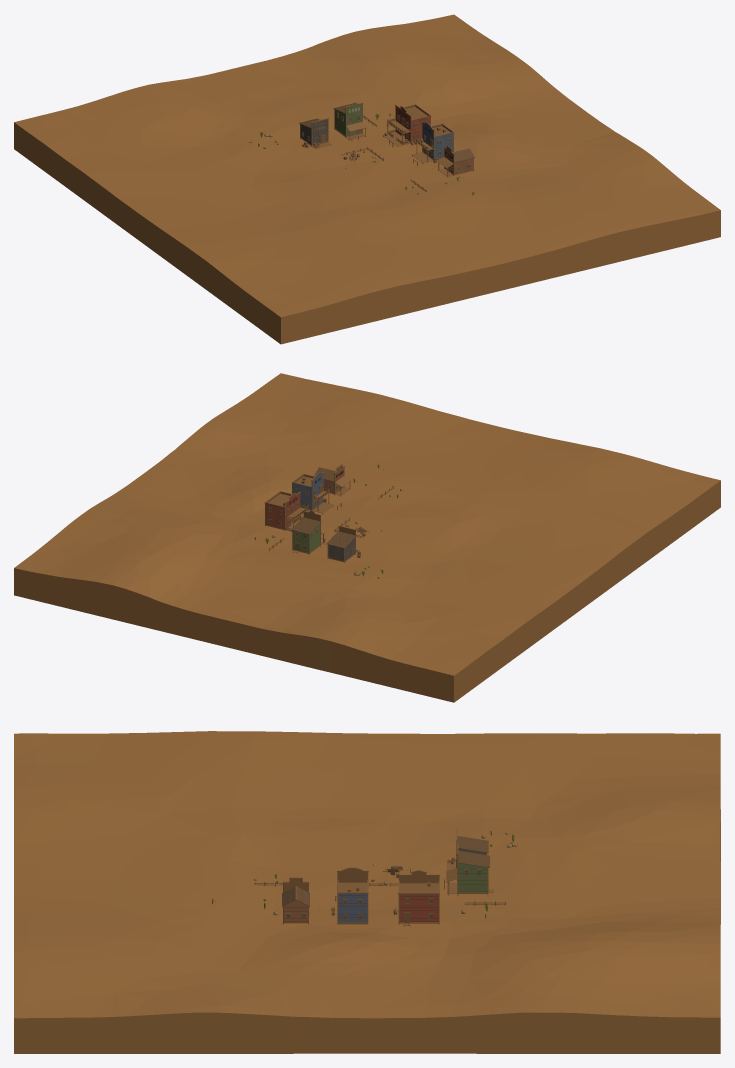
File: wild-west-village.fbx
The picture shows the model from 3 angles, top to bottom: view 1: azimuth 30°, elevation 25°; view 2: azimuth 150°, elevation 25°; view 3: azimuth 270°, elevation 25°; orthographic projection. The views are drawn at different scales.
Visible parts, largest first — view 1: Ground, Building1, Building3, Building4, Building5, Building2; view 2: Ground, Building1, Building3, Building4, Building2, Building5; view 3: Ground, Building1, Building3, Building4, Building5, Building2.
Part boxes in pixels (x1,y1,x2,y2): Ground: [14, 14, 720, 344]; Building1: [382, 104, 430, 146]; Building3: [411, 121, 454, 163]; Building4: [333, 102, 366, 140]; Building5: [437, 145, 474, 177]; Building2: [299, 118, 331, 149]; Ground: [14, 373, 720, 702]; Building1: [264, 491, 308, 531]; Building3: [291, 471, 334, 514]; Building4: [291, 510, 324, 554]; Building2: [326, 525, 359, 562]; Building5: [314, 464, 351, 496]; Ground: [14, 731, 720, 1053]; Building1: [398, 870, 439, 926]; Building3: [337, 867, 368, 924]; Building4: [446, 842, 493, 895]; Building5: [282, 877, 309, 924]; Building2: [446, 828, 488, 870].
Bounding box in the file's own units: 13347 × 1753 × 14022.
